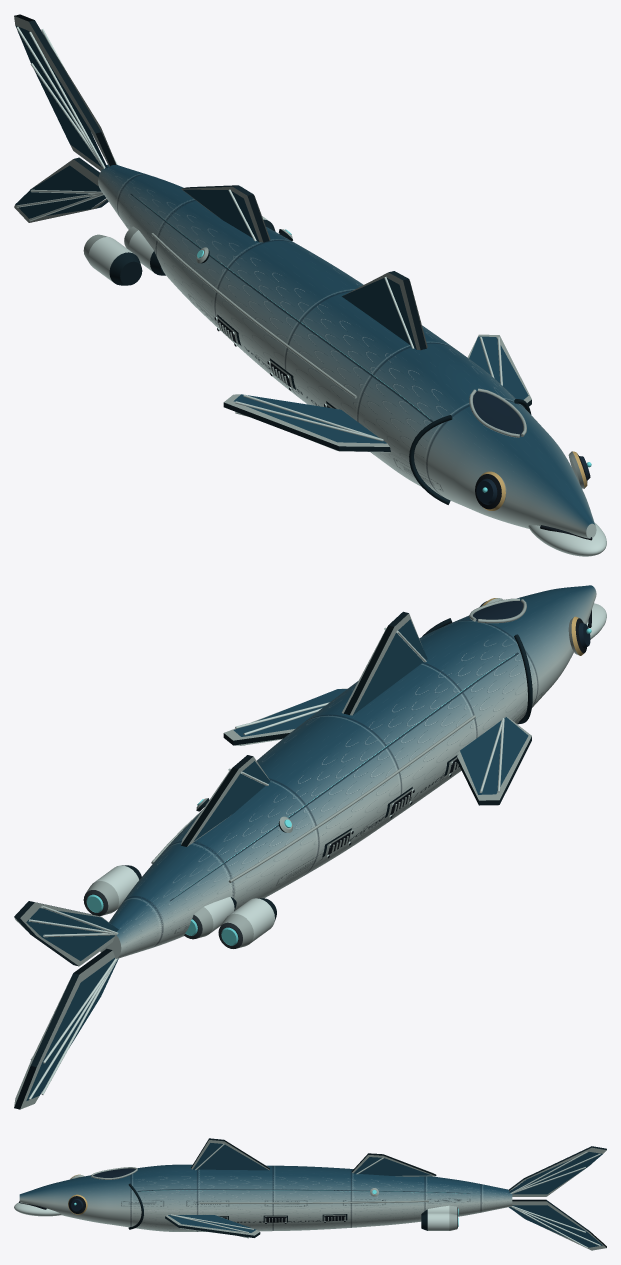
Rendered from ship.glb.
3 renders of one model, top to bottom at view 1: azimuth 30°, elevation 25°; view 2: azimuth 150°, elevation 25°; view 3: azimuth 270°, elevation 25°, orthographic. The views are drawn at different scales.
Visible parts, largest first — view 1: barracuda_hull; view 2: barracuda_hull; view 3: barracuda_hull.
Boxes of the visible parts, box(x1,y1,x2,y2) form: barracuda_hull: box(14, 14, 606, 556); barracuda_hull: box(14, 585, 606, 1109); barracuda_hull: box(14, 1138, 606, 1250).
Size of the model in its own units: 17.8 by 13.36 by 64.8.
Materials: 1 (1 with a texture image).
